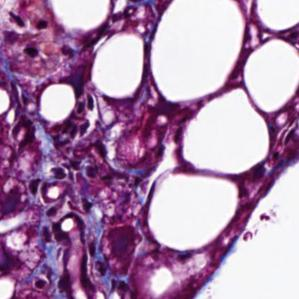inflammation: (40, 138, 113, 187), (1, 9, 60, 66)
